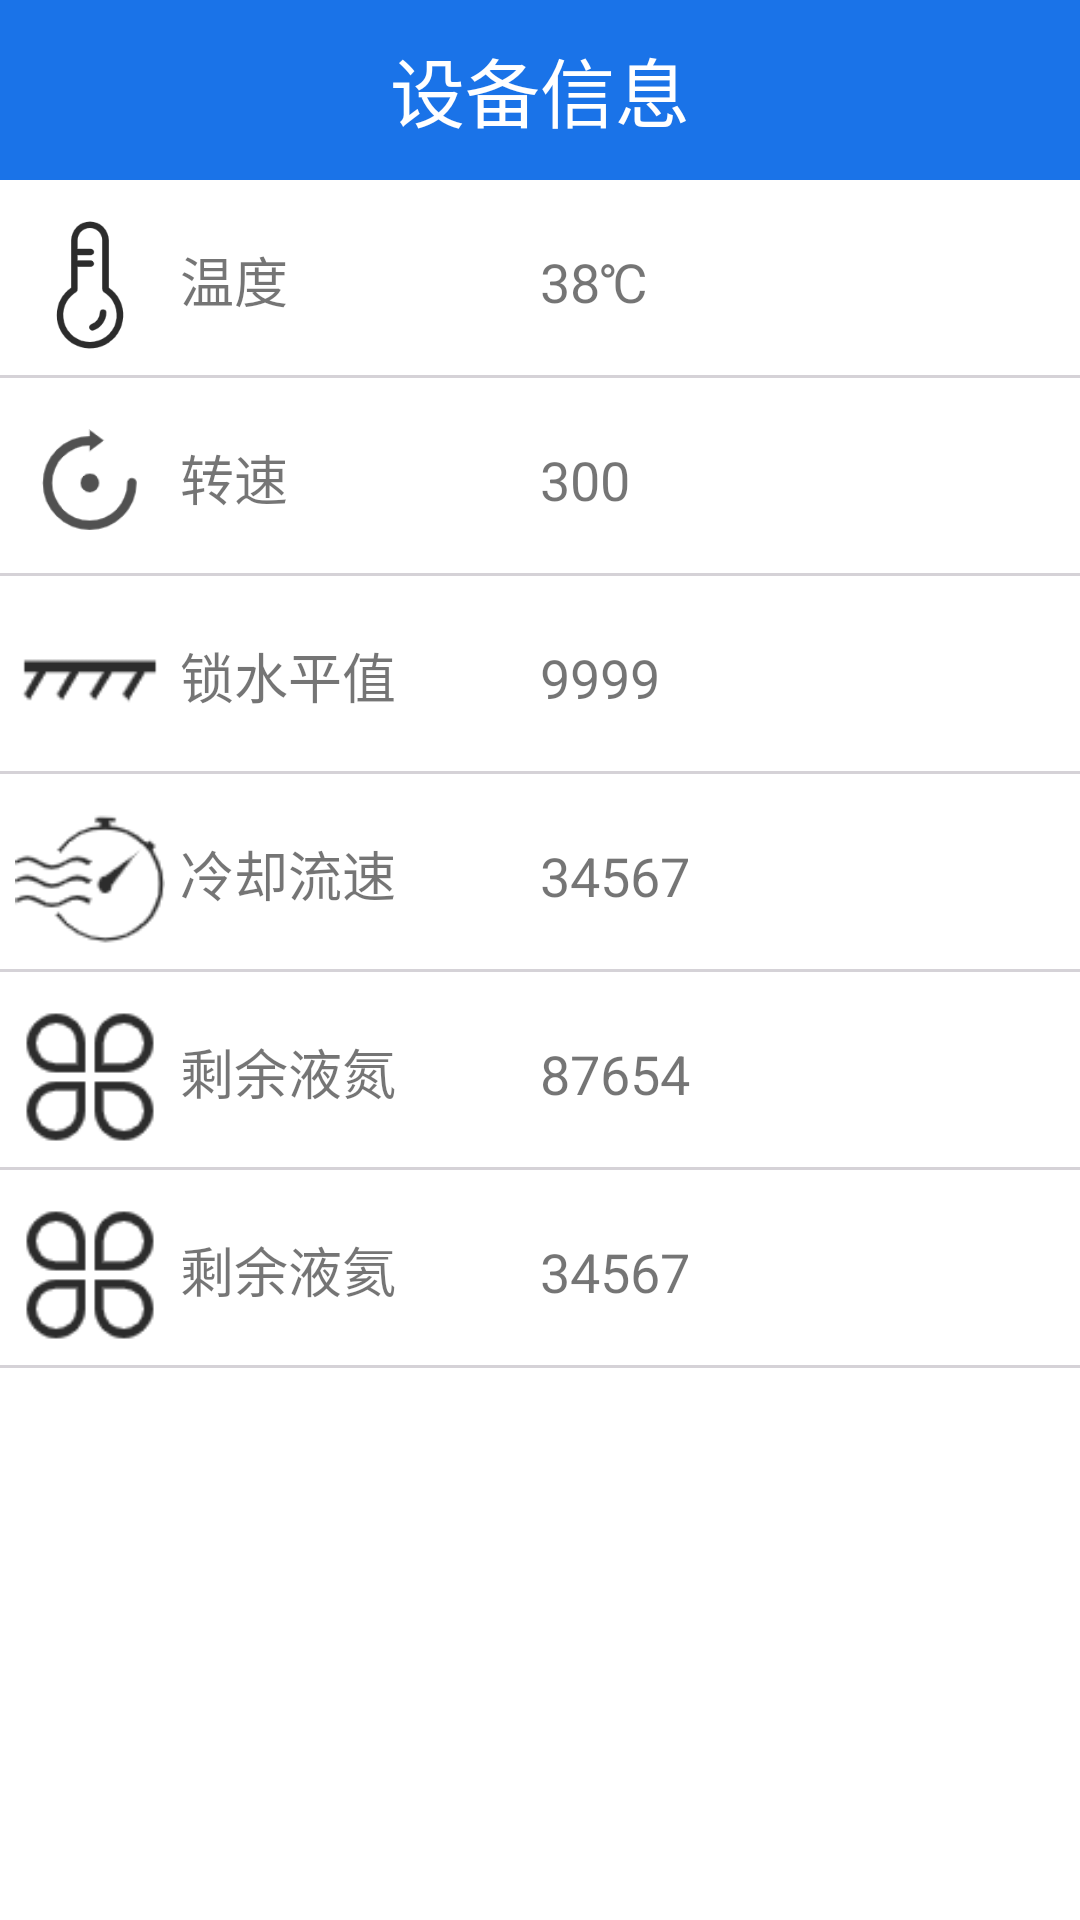

Named icons in this screenshot (1080px x 1920px) and their bounding boxes, {"x1": x1, "y1": y1, "x2": x2, "y2": y2}:
flow rate: {"x1": 15, "y1": 816, "x2": 165, "y2": 943}
temperature blak: {"x1": 56, "y1": 221, "x2": 124, "y2": 349}
